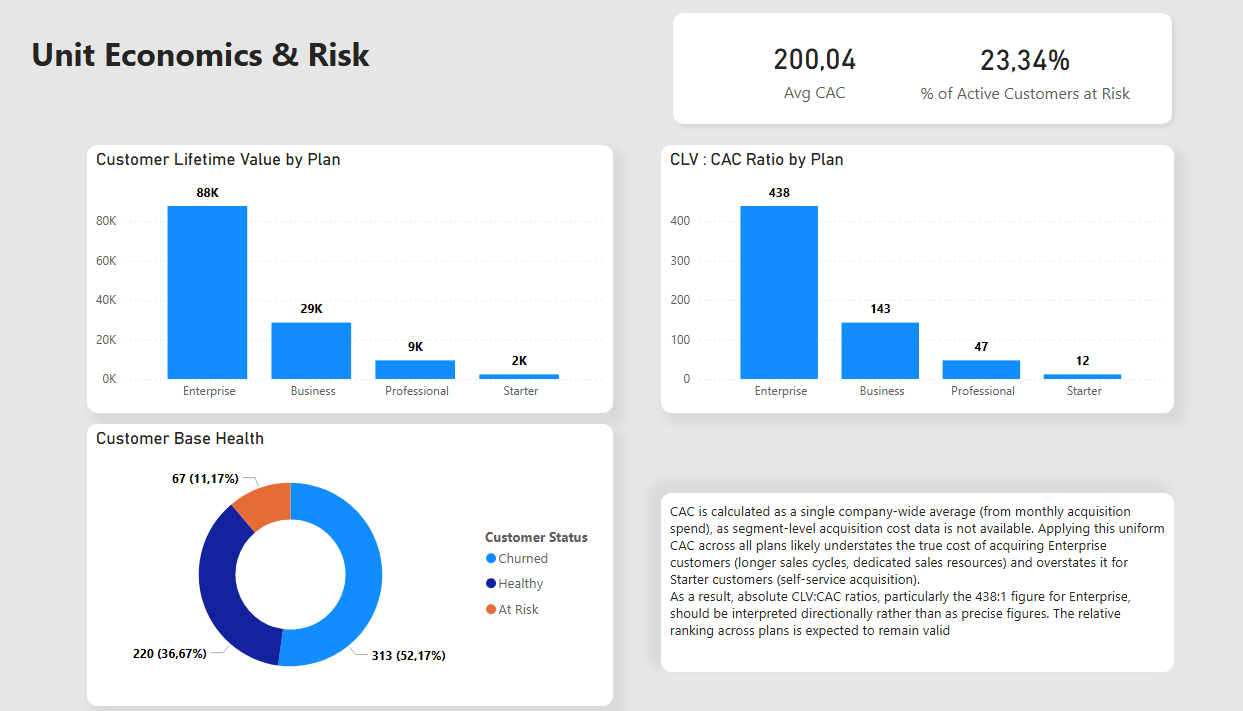

This screenshot's page, from the dashboard's own definition file:
{"tool":"powerbi","page":{"name":"Unit Economics & Risk","canvas":[1280,720],"ordinal":2},"visuals":[{"type":"shape","box":[675.7,7.3,517.6,128.4],"z":0},{"type":"clusteredColumnChart","title":"Customer Lifetime Value by Plan","fields":{"Category":["Subscription.plan"],"Y":["Measures (2).CLV"]},"box":[99,148,526,268],"z":1000},{"type":"columnChart","title":"CLV : CAC Ratio by Plan","fields":{"Category":["Subscription.plan"],"Y":["Measures (2).CLV CAC Ratio"]},"box":[673,148,513,268],"z":2000},{"type":"donutChart","title":"Customer Base Health","fields":{"Category":["Subscription.Customer Status"],"Y":["CountNonNull(Subscription.customer_id)"]},"box":[99,427,526,282],"z":3000},{"type":"card","fields":{"Values":["Measures (2).Avg CAC"]},"box":[748,29,157,83],"z":4000},{"type":"card","fields":{"Values":["Measures (2).Pct At Risk"]},"box":[913,30,248,83],"z":5000},{"type":"textbox","box":[38,29,380,62],"z":5001},{"type":"textbox","box":[673,496,513,179],"z":5002}]}

Visuals, with their boxes in screenshot pixels (x1, y1, x2, y2), scaled from the page's 1280x720 canvas onto the 1243x711 screenshot:
shape: x1=656, y1=7, x2=1159, y2=134
"Customer Lifetime Value by Plan" clusteredColumnChart: x1=96, y1=146, x2=607, y2=411
"CLV : CAC Ratio by Plan" columnChart: x1=654, y1=146, x2=1152, y2=411
"Customer Base Health" donutChart: x1=96, y1=422, x2=607, y2=700
card - Measures (2).Avg CAC: x1=726, y1=29, x2=879, y2=111
card - Measures (2).Pct At Risk: x1=887, y1=30, x2=1127, y2=112
textbox: x1=37, y1=29, x2=406, y2=90
textbox: x1=654, y1=490, x2=1152, y2=667
